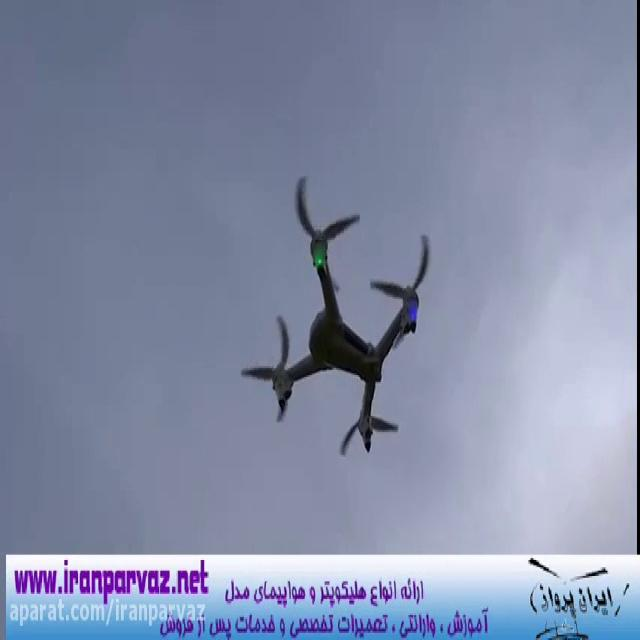drone: (235, 165, 435, 462)
